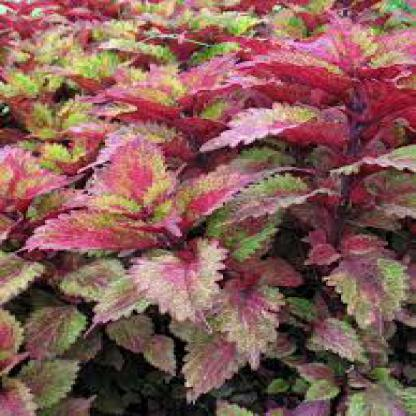Bunga Coleus: (38, 24, 374, 390)
